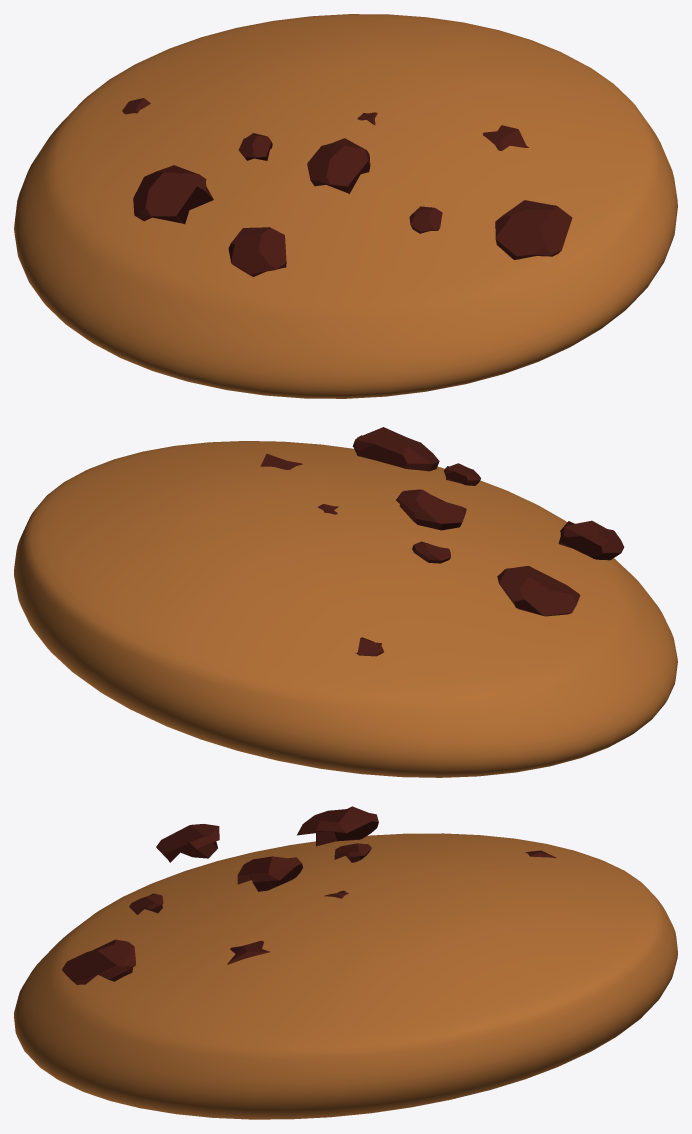
File: Cookie.fbx
3 renders of one model, top to bottom at view 1: azimuth 30°, elevation 25°; view 2: azimuth 150°, elevation 25°; view 3: azimuth 270°, elevation 25°, orthographic. The views are drawn at different scales.
Parts seen in each view (by area): view 1: Cookie.001, Cubo.012, Cubo.005, Cubo.003, Cookie, Cubo.002, Cubo.008, Cubo.006; view 2: Cookie.001, Cubo.005, Cubo.012, Cubo.003, Cookie, Cubo.008, Cubo.002; view 3: Cookie.001, Cubo.012, Cubo.005, Cookie, Cubo.003, Cubo.008, Cubo.002, Cubo.006.
Boxes of the visible parts, x1,y1,x2,y2 form: Cookie.001: (14, 14, 677, 398); Cubo.012: (495, 200, 572, 259); Cubo.005: (133, 165, 213, 224); Cubo.003: (307, 138, 370, 194); Cookie: (228, 227, 286, 276); Cubo.002: (409, 206, 442, 233); Cubo.008: (239, 133, 272, 160); Cubo.006: (483, 125, 528, 150); Cookie.001: (14, 441, 677, 777); Cubo.005: (497, 565, 580, 616); Cubo.012: (352, 427, 439, 471); Cubo.003: (396, 489, 466, 530); Cookie: (558, 520, 624, 560); Cubo.008: (412, 541, 450, 563); Cubo.002: (444, 463, 480, 485); Cookie.001: (14, 833, 677, 1119); Cubo.012: (62, 939, 135, 984); Cubo.005: (297, 806, 378, 846); Cookie: (156, 824, 219, 862); Cubo.003: (237, 856, 302, 891); Cubo.008: (334, 843, 371, 862); Cubo.002: (129, 893, 163, 914); Cubo.006: (227, 940, 269, 964).
Size of the model in its own units: 17.63 by 4.88 by 17.5.
